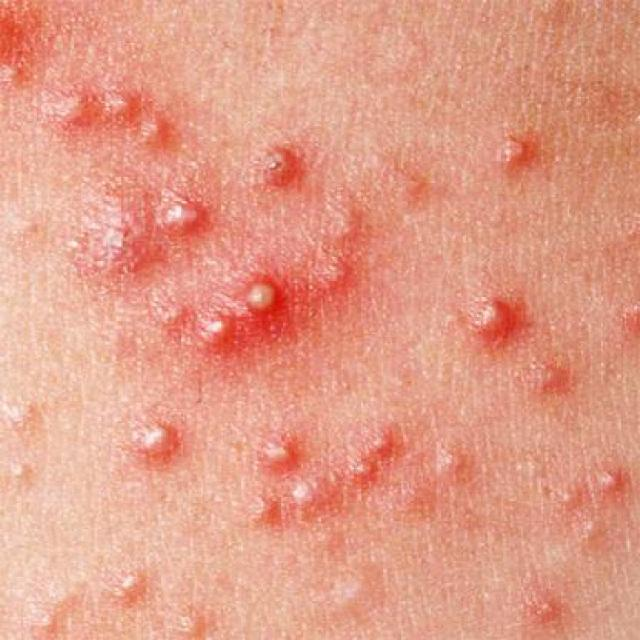pustules: (446, 280, 542, 351), (131, 169, 214, 248), (217, 258, 301, 334), (108, 402, 190, 476), (44, 66, 104, 134), (477, 124, 551, 170), (578, 449, 638, 503), (131, 100, 183, 157), (192, 308, 242, 355), (100, 77, 146, 128), (318, 200, 369, 243), (254, 432, 306, 470), (340, 456, 389, 496), (110, 563, 158, 603), (426, 444, 472, 478), (518, 589, 564, 623), (363, 423, 403, 460), (542, 486, 586, 512)
